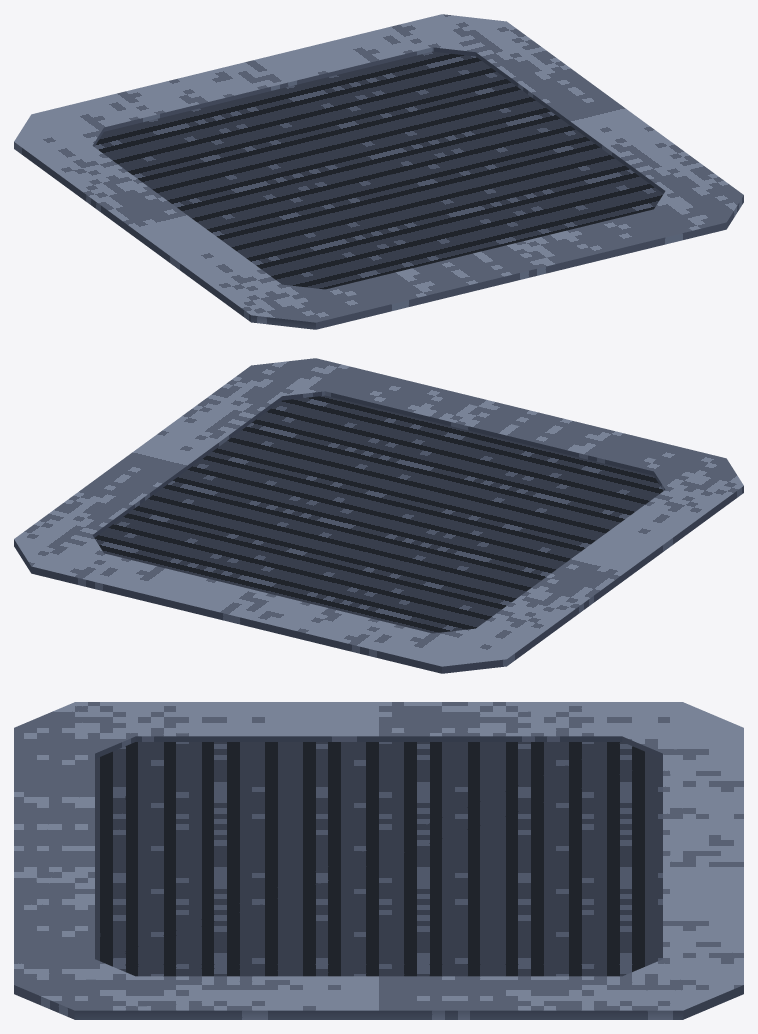
File: stn.floor__grate.glb
3 views of the same model, one above another, from view 1: azimuth 30°, elevation 25°; view 2: azimuth 150°, elevation 25°; view 3: azimuth 270°, elevation 25° (orthographic). The views are drawn at different scales.
Visible parts, largest first — view 1: kit_grate, kit_frame; view 2: kit_grate, kit_frame; view 3: kit_grate, kit_frame.
Boxes of the visible parts, <box> form: kit_grate: <box>94,51,663,289</box>; kit_frame: <box>14,14,743,329</box>; kit_grate: <box>94,395,663,633</box>; kit_frame: <box>14,358,743,673</box>; kit_grate: <box>95,742,662,976</box>; kit_frame: <box>14,702,743,1019</box>.
Size of the model in its own units: 3.6 by 0.05 by 3.6.
Materials: 2 (2 with a texture image).
